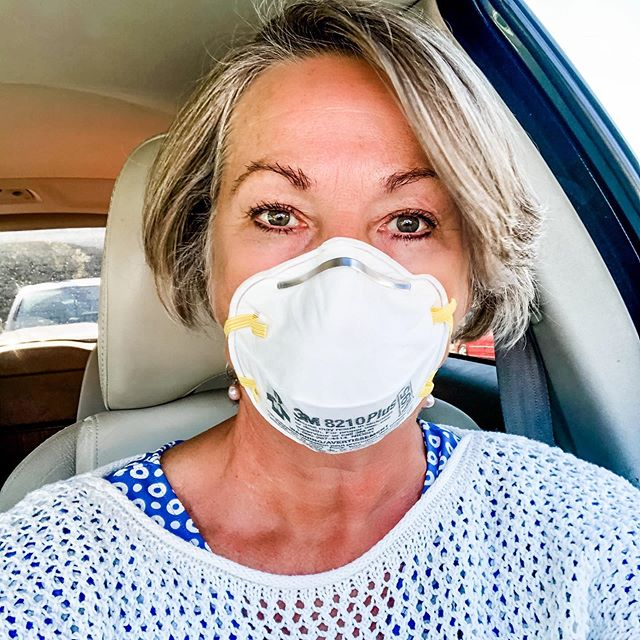n95: (214, 232, 462, 458)
